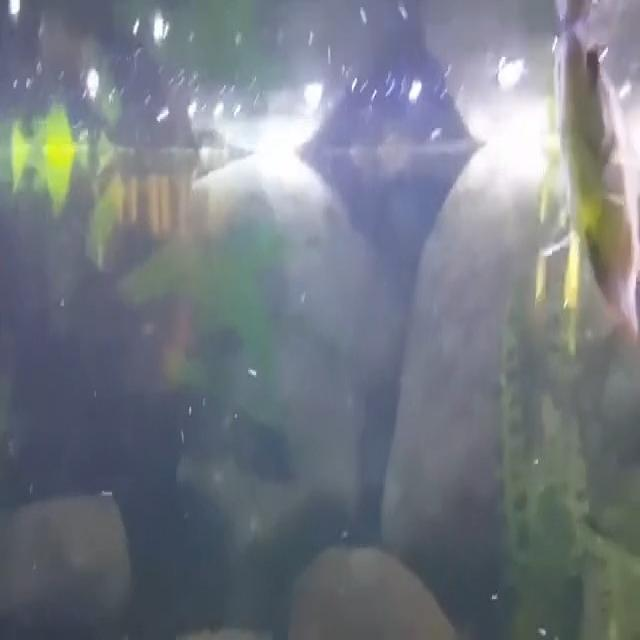fish: (538, 31, 640, 387)
